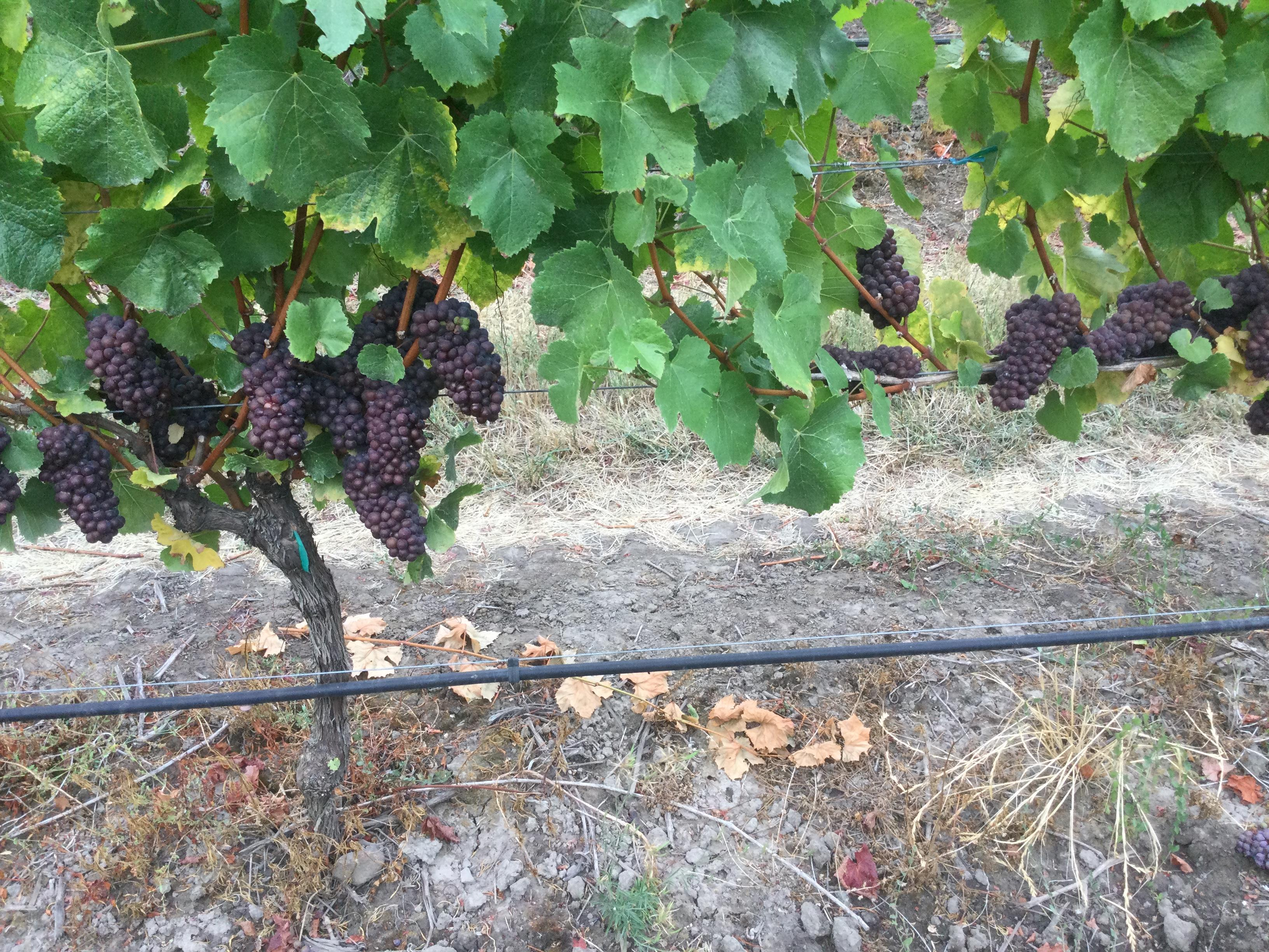leaf: (13, 0, 166, 186), (318, 83, 472, 267), (206, 32, 369, 203), (1070, 0, 1224, 159), (556, 37, 695, 190), (449, 110, 573, 254), (75, 208, 221, 314), (700, 0, 813, 125), (531, 242, 648, 360), (500, 0, 616, 112), (831, 0, 935, 123), (762, 394, 864, 513), (1136, 128, 1237, 246), (690, 160, 787, 280), (631, 10, 735, 111), (0, 144, 68, 288), (405, 0, 505, 91), (753, 271, 821, 394), (532, 178, 630, 260), (996, 117, 1080, 207), (200, 197, 292, 277), (794, 4, 853, 117), (654, 337, 720, 434), (207, 137, 293, 210), (1059, 222, 1127, 311), (1206, 39, 1268, 136), (700, 371, 759, 468), (613, 175, 687, 250), (455, 232, 528, 307), (51, 180, 100, 286), (305, 0, 385, 57), (537, 340, 589, 423), (141, 146, 207, 210), (285, 299, 352, 361), (966, 213, 1028, 278), (937, 71, 994, 141), (942, 0, 1007, 61), (152, 515, 224, 570), (426, 483, 482, 552), (39, 293, 87, 373), (41, 356, 106, 415), (609, 317, 672, 377), (136, 83, 189, 152), (310, 229, 371, 288), (0, 299, 47, 371), (993, 0, 1072, 40), (127, 2, 216, 37), (675, 214, 727, 273), (112, 475, 164, 534), (1077, 136, 1127, 194), (13, 480, 60, 541), (1172, 353, 1231, 401), (1036, 389, 1083, 441), (442, 424, 482, 483), (1219, 138, 1268, 186), (861, 368, 892, 438), (1049, 347, 1098, 389), (301, 431, 341, 482), (884, 167, 923, 218), (437, 0, 490, 37), (613, 0, 683, 28), (0, 428, 42, 472), (357, 343, 404, 382), (1124, 0, 1200, 24), (815, 347, 849, 395), (0, 0, 30, 52), (1169, 329, 1213, 363), (163, 35, 212, 61), (1087, 212, 1121, 249), (783, 138, 813, 179), (1194, 277, 1232, 309), (872, 133, 898, 161), (65, 283, 94, 308), (1219, 0, 1235, 6), (930, 74, 936, 85), (205, 4, 215, 10), (50, 354, 55, 359), (589, 182, 597, 185), (617, 27, 622, 31), (114, 189, 119, 192), (121, 4, 124, 6), (288, 317, 290, 320), (704, 268, 708, 269), (203, 143, 204, 146), (235, 20, 236, 23), (187, 86, 188, 88), (587, 176, 589, 177), (6, 368, 7, 369), (415, 14, 416, 14), (0, 94, 2, 94), (235, 14, 235, 15), (932, 91, 932, 94), (363, 371, 364, 371), (676, 248, 676, 254), (556, 378, 558, 378)
